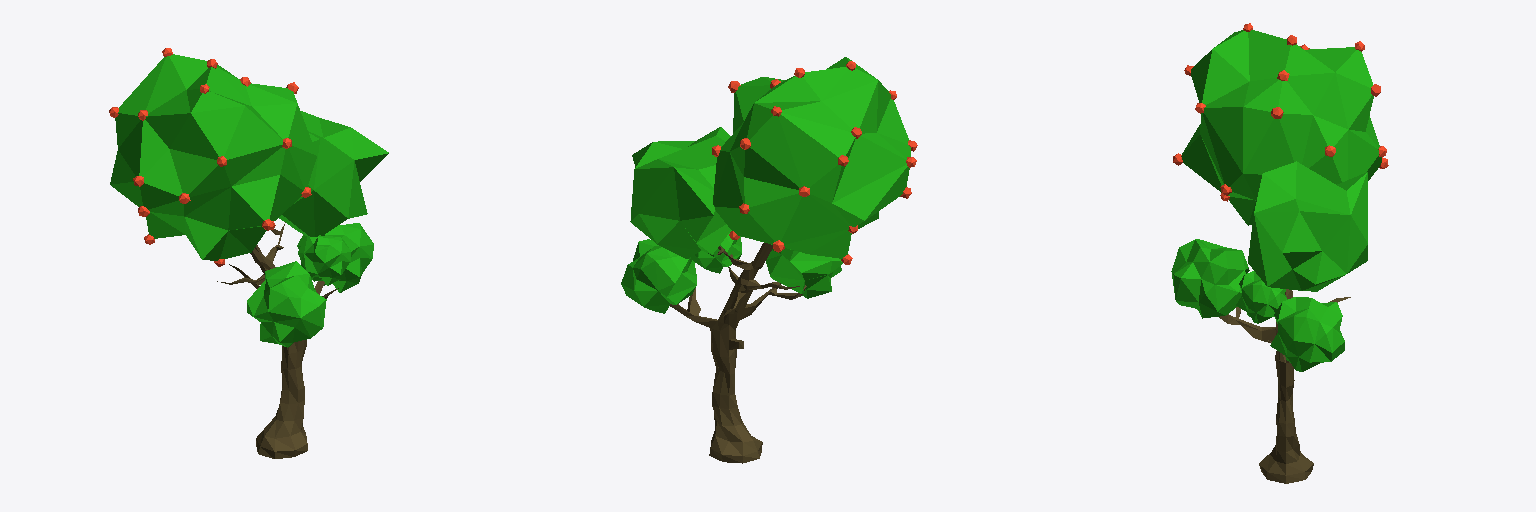
File: tree4.obj
3 renders of one model, left to right at view 1: azimuth 30°, elevation 25°; view 2: azimuth 150°, elevation 25°; view 3: azimuth 270°, elevation 25°, orthographic.
Visible parts, largest first — view 1: Leaves_3, Leaves_4, Leaves, Trunk, Leaves_1, Leaves_2, Fruits; view 2: Leaves_3, Leaves_4, Trunk, Leaves_2, Leaves, Fruits, Leaves_1; view 3: Leaves_3, Leaves_4, Leaves, Leaves_2, Trunk, Leaves_1, Fruits.
Part boxes in pixels (x1,y1,x2,y2): Leaves_3: (110,54,316,260); Leaves_4: (279,111,388,236); Leaves: (247,261,326,347); Trunk: (217,222,338,458); Leaves_1: (298,235,350,285); Leaves_2: (297,223,373,292); Fruits: (109,48,311,266); Leaves_3: (713,57,910,258); Leaves_4: (630,127,730,258); Trunk: (670,243,806,463); Leaves_2: (621,239,696,313); Leaves: (766,248,842,298); Fruits: (712,61,917,264); Leaves_1: (692,230,741,273); Leaves_3: (1181,30,1381,225); Leaves_4: (1248,161,1367,291); Leaves: (1171,239,1249,318); Leaves_2: (1270,297,1344,371); Trunk: (1219,289,1350,483); Leaves_1: (1236,271,1287,323); Fruits: (1173,23,1388,201).
Size of the model in its own units: 253 by 361 by 176.